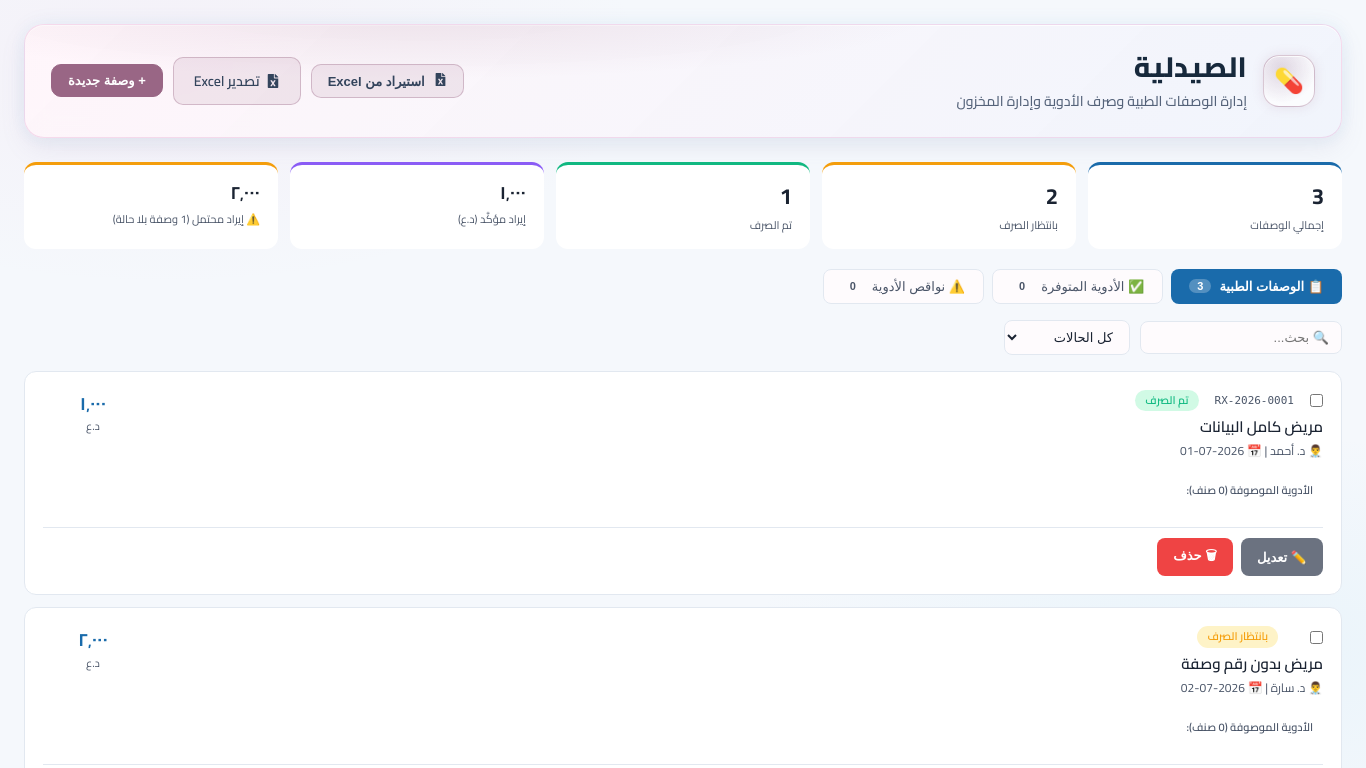
Test: PharmacyPage — prescription search crash guard › searching by prescNo still matches records that do have one
In the field with placeholder "🔍 بحث...": (1241, 337) [1140,321,1342,354], type "rx-2026-0003"
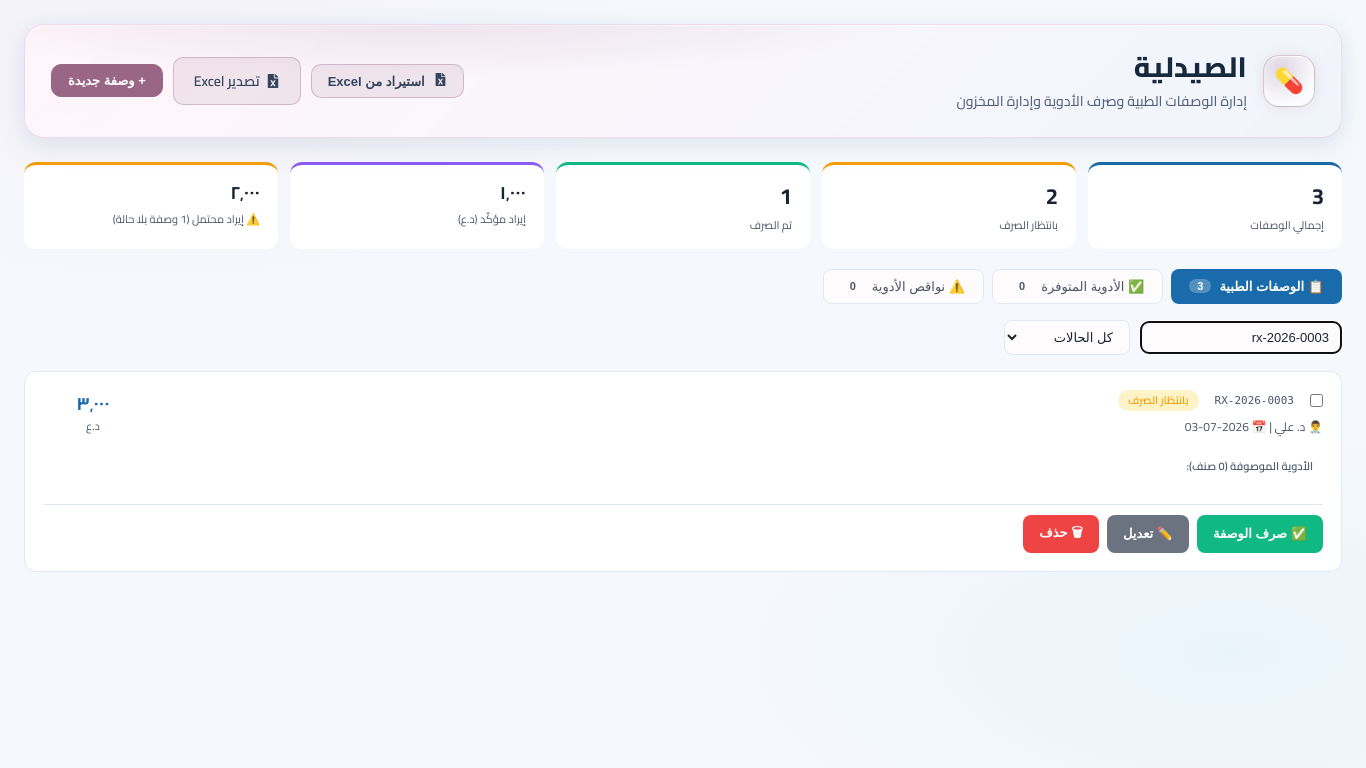
Expected: the text "RX-2026-0003" is shown, [1214,394,1294,407]
Result: the heading "مريض كامل البيانات" is gone
